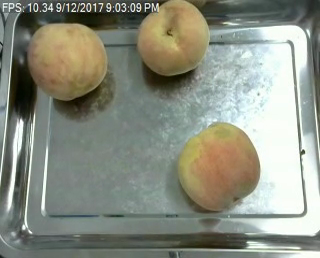Peach: (177, 120, 261, 211), (26, 22, 108, 99), (137, 0, 209, 77)
